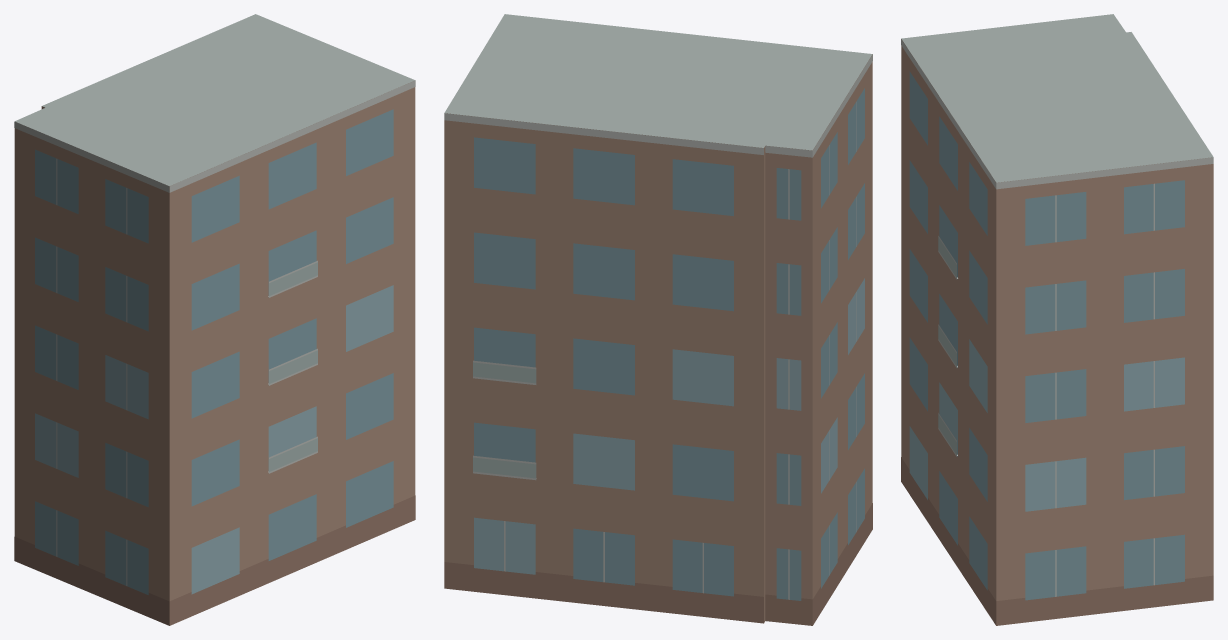
Rendered from survey-upis-32686870.glb.
3 renders of one model, left to right at view 1: azimuth 30°, elevation 25°; view 2: azimuth 150°, elevation 25°; view 3: azimuth 270°, elevation 25°, orthographic. The views are drawn at different scales.
Visible parts, largest first — view 1: survey-upis-32686870.tmp; view 2: survey-upis-32686870.tmp; view 3: survey-upis-32686870.tmp.
Boxes of the visible parts, x1,y1,x2,y2 form: survey-upis-32686870.tmp: (14,14,415,625); survey-upis-32686870.tmp: (444,14,872,625); survey-upis-32686870.tmp: (901,14,1213,625).
Size of the model in its own units: 13.23 by 16.2 by 10.36.
